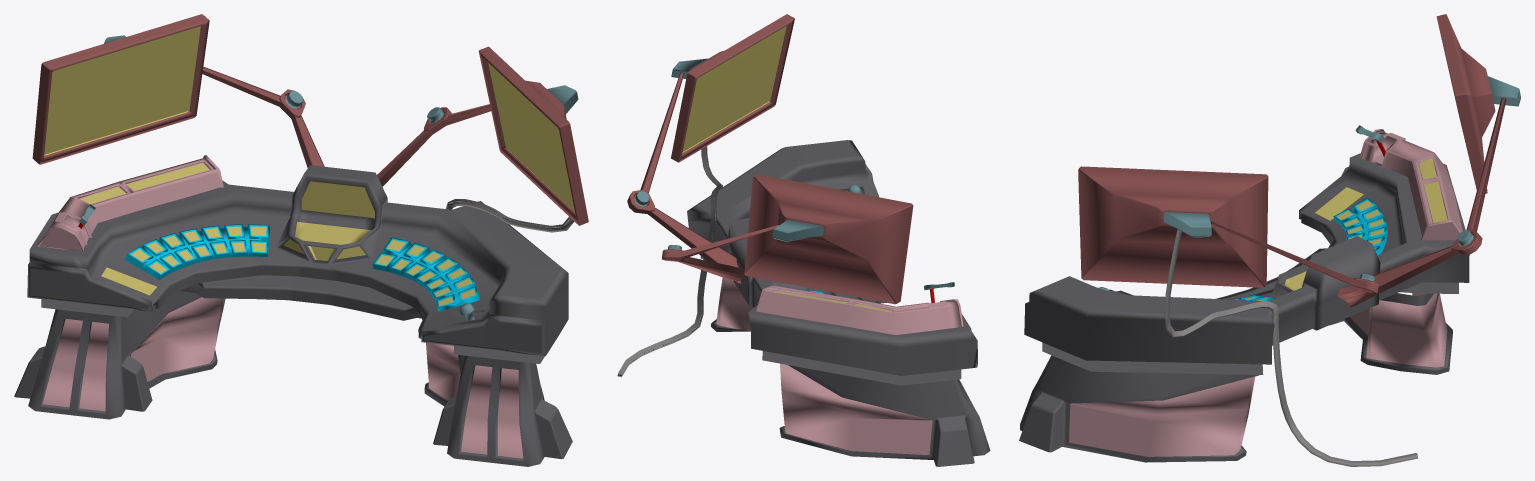
File: controlpanel.fbx
3 renders of one model, left to right at view 1: azimuth 30°, elevation 25°; view 2: azimuth 150°, elevation 25°; view 3: azimuth 270°, elevation 25°, orthographic. The views are drawn at different scales.
Visible parts, largest first — view 1: pasted__pasted__polySurface3; view 2: pasted__pasted__polySurface3; view 3: pasted__pasted__polySurface3.
Part boxes in pixels (box(x1,y1,x2,y2)): pasted__pasted__polySurface3: box(14, 14, 588, 466); pasted__pasted__polySurface3: box(617, 14, 990, 466); pasted__pasted__polySurface3: box(1019, 14, 1520, 466).
Size of the model in its own units: 3.86 by 2.47 by 3.88.
